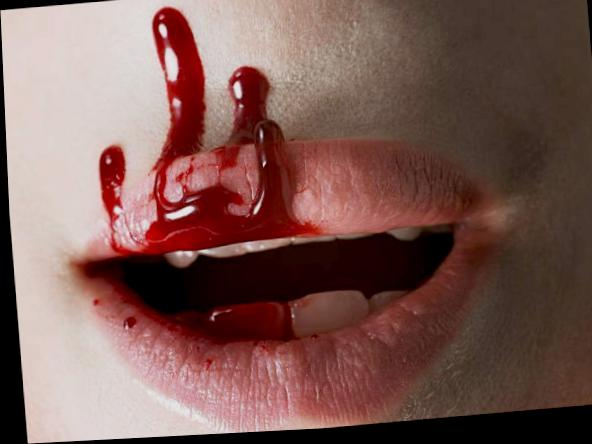Fire: (97, 8, 320, 257), (161, 305, 288, 344), (117, 320, 132, 333)
